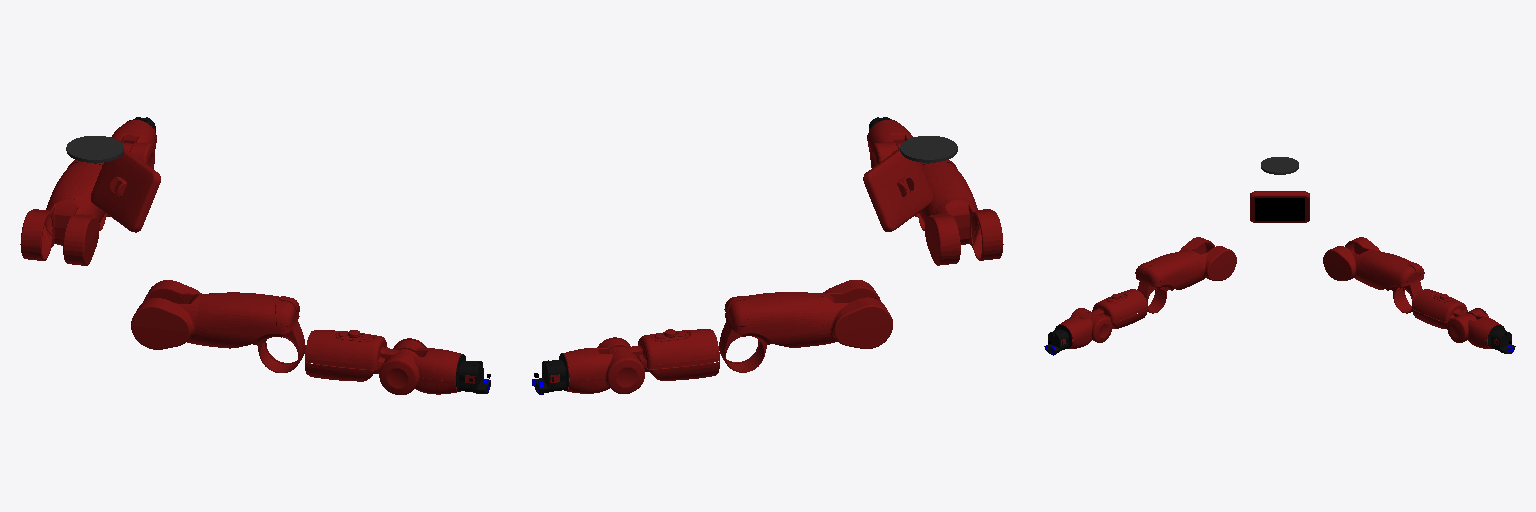
--- What the picture shows (computed from the rendered views, not written in the file) ---
3 views of the same robot in one strip: view 1: azimuth 30°, elevation 25°; view 2: azimuth 150°, elevation 25°; view 3: azimuth 270°, elevation 25° (orthographic).
Robot: baxter — 49 links, 48 joints (15 revolute, 33 fixed); root link base; default pose: every joint at zero.
Links seen in each view (by area): view 1: right_upper_elbow, left_lower_shoulder, right_upper_forearm, right_lower_shoulder, screen, right_lower_forearm, left_upper_elbow, sonar_ring, left_lower_forearm, right_wrist; view 2: left_upper_elbow, right_lower_shoulder, left_upper_forearm, left_lower_shoulder, screen, left_lower_forearm, right_upper_elbow, sonar_ring, right_lower_forearm, left_wrist; view 3: right_upper_elbow, left_upper_elbow, right_upper_forearm, left_upper_forearm, right_lower_shoulder, left_lower_shoulder, left_lower_forearm, right_lower_forearm, display, screen, sonar_ring.
Link boxes in pixels (left/top/right/bottom): right_upper_elbow: left=196, top=292, right=305, bottom=372; left_lower_shoulder: left=20, top=198, right=99, bottom=265; right_upper_forearm: left=305, top=330, right=418, bottom=381; right_lower_shoulder: left=131, top=280, right=203, bottom=349; screen: left=91, top=148, right=160, bottom=232; right_lower_forearm: left=379, top=338, right=461, bottom=394; left_upper_elbow: left=45, top=160, right=105, bottom=235; sonar_ring: left=66, top=136, right=123, bottom=162; left_lower_forearm: left=111, top=120, right=156, bottom=168; right_wrist: left=456, top=354, right=490, bottom=393; left_upper_elbow: left=719, top=292, right=828, bottom=372; right_lower_shoulder: left=925, top=198, right=1003, bottom=265; left_upper_forearm: left=605, top=329, right=719, bottom=380; left_lower_shoulder: left=820, top=280, right=892, bottom=348; screen: left=863, top=148, right=933, bottom=231; left_lower_forearm: left=563, top=337, right=644, bottom=393; right_upper_elbow: left=918, top=160, right=978, bottom=235; sonar_ring: left=900, top=136, right=957, bottom=162; right_lower_forearm: left=867, top=120, right=912, bottom=167; left_wrist: left=534, top=353, right=568, bottom=392; right_upper_elbow: left=1135, top=250, right=1202, bottom=313; left_upper_elbow: left=1357, top=250, right=1424, bottom=313; right_upper_forearm: left=1080, top=289, right=1147, bottom=328; left_upper_forearm: left=1412, top=289, right=1476, bottom=328; right_lower_shoulder: left=1179, top=237, right=1236, bottom=280; left_lower_shoulder: left=1323, top=237, right=1380, bottom=280; left_lower_forearm: left=1447, top=308, right=1500, bottom=348; right_lower_forearm: left=1059, top=308, right=1111, bottom=348; display: left=1255, top=198, right=1304, bottom=220; screen: left=1250, top=191, right=1309, bottom=222; sonar_ring: left=1261, top=157, right=1298, bottom=174.
Bounding box of the posed robot: 0.8638 × 2.07 × 0.573 m (x, y, z).
11 mesh visuals loaded from 11 distinct referenced files (6 Collada DAE); not drawn: 7 (reference not matched to a file when rendering).

The robot description file, URDF, robot "baxter":
<?xml version="1.0" ?>
<!-- ============================================================================================== -->
<!-- |                                                                                            | -->
<!-- |    baxter.urdf is DEPRECATED. It is included here for backward compatibility.              | -->
<!-- |    Please use baxter.urdf.xacro by running:                                                | -->
<!-- |$ rosrun xacro xacro.py - -inorder `rospack find baxter_description`/urdf/baxter.urdf.xacro | -->
<!-- |                                                                                            | -->
<!-- ============================================================================================== -->
<robot name="baxter">
  <link name="base">
  </link>
  <link name="torso">
    <visual>
      <origin rpy="0 0 0" xyz="0 0 0"/>
      <geometry>
        <mesh filename="package://baxter_description/meshes/torso/base_link.dae"/>
      </geometry>
    </visual>
    <inertial>
      <origin rpy="0 0 0" xyz="0.000000 0.000000 0.000000"/>
      <mass value="35.336455"/>
      <inertia ixx="1.849155" ixy="-0.000354" ixz="-0.154188" iyy="1.662671" iyz="0.003292" izz="0.802239"/>
    </inertial>
  </link>
  <link name="left_torso_itb">
    <inertial>
      <origin rpy="0 0 0" xyz="0.000000 0.000000 0.000000"/>
      <mass value="0.0001"/>
      <inertia ixx="1e-08" ixy="0" ixz="0" iyy="1e-08" iyz="0" izz="1e-08"/>
    </inertial>
  </link>
  <link name="right_torso_itb">
    <inertial>
      <origin rpy="0 0 0" xyz="0.000000 0.000000 0.000000"/>
      <mass value="0.0001"/>
      <inertia ixx="1e-08" ixy="0" ixz="0" iyy="1e-08" iyz="0" izz="1e-08"/>
    </inertial>
  </link>
  <link name="pedestal">
    <visual>
      <origin rpy="0 0 0" xyz="0 0 0"/>
      <geometry>
        <mesh filename="package://baxter_description/meshes/base/PEDESTAL.dae"/>
      </geometry>
      <material name="darkgray">
        <color rgba=".2 .2 .2 1"/>
      </material>
    </visual>
    <inertial>
      <origin rpy="0 0 0" xyz="0 0 0"/>
      <mass value="60.86397744"/>
      <inertia ixx="5.0635929" ixy="0.00103417" ixz="0.80199628" iyy="6.08689388" iyz="0.00105311" izz="4.96191932"/>
    </inertial>
  </link>
  <link name="head">
    <visual>
      <origin rpy="0 0 0" xyz="0 0 .00953"/>
      <geometry>
        <mesh filename="package://baxter_description/meshes/head/H0.dae"/>
      </geometry>
      <material name="darkgray">
        <color rgba=".2 .2 .2 1"/>
      </material>
    </visual>
    <collision>
      <origin rpy="0 0 0" xyz="0.0 0 0.0"/>
      <geometry>
        <sphere radius="0.001"/>
      </geometry>
    </collision>
    <inertial>
      <origin rpy="0 0 0" xyz="0 0 0"/>
      <mass value="0.547767"/>
      <inertia ixx="0.004641" ixy="0.000159" ixz="0.000242" iyy="0.003295" iyz="-0.001324" izz="0.003415"/>
    </inertial>
  </link>
  <link name="sonar_ring">
    <visual>
      <origin rpy="0 0 0" xyz="-.0347 0 .00953"/>
      <geometry>
        <cylinder length="0.01" radius="0.085"/>
      </geometry>
      <material name="darkgray">
        <color rgba=".2 .2 .2 1"/>
      </material>
    </visual>
    <collision>
      <origin rpy="0 0 0" xyz="0.0 0 0.0"/>
      <geometry>
        <sphere radius="0.001"/>
      </geometry>
    </collision>
    <inertial>
      <origin rpy="0 0 0" xyz="0 0 0"/>
      <mass value="0.0001"/>
      <inertia ixx="1e-08" ixy="0" ixz="0" iyy="1e-08" iyz="0" izz="1e-08"/>
    </inertial>
  </link>
  <link name="screen">
    <visual>
      <origin rpy="0 -1.57079632679 0" xyz="0 -.00953 -.0347"/>
      <geometry>
        <mesh filename="package://baxter_description/meshes/head/H1.dae"/>
      </geometry>
      <material name="darkred">
        <color rgba=".5 .1 .1 1"/>
      </material>
    </visual>
    <collision>
      <origin rpy="0 0 0" xyz="0.0 0 0.0"/>
      <geometry>
        <sphere radius="0.001"/>
      </geometry>
    </collision>
    <inertial>
      <origin rpy="0 0 0" xyz="0 0 0"/>
      <mass value="0.440171"/>
      <inertia ixx="0.004006" ixy="0.000230" ixz="0.000002" iyy="0.002800" iyz="0.000029" izz="0.001509"/>
    </inertial>
  </link>
  <link name="display">
    <visual>
      <origin rpy="0.2617993877991494 0 0" xyz="0 0 0"/>
      <geometry>
        <box size="0.218 0.16 0.001"/>
      </geometry>
      <material name="black">
        <color rgba="0 0 0 1"/>
      </material>
    </visual>
    <inertial>
      <origin rpy="0 0 0" xyz="0 0 0"/>
      <mass value="0.0001"/>
      <inertia ixx="1e-08" ixy="0" ixz="0" iyy="1e-08" iyz="0" izz="1e-08"/>
    </inertial>
  </link>
  <link name="head_camera">
    <inertial>
      <origin rpy="0 0 0" xyz="0 0 0"/>
      <mass value="0.0001"/>
      <inertia ixx="1e-08" ixy="0" ixz="0" iyy="1e-08" iyz="0" izz="1e-08"/>
    </inertial>
  </link>
  <link name="dummyhead1">
    <inertial>
      <origin rpy="0 0 0" xyz="0 0 0"/>
      <mass value="0.0001"/>
      <inertia ixx="1e-08" ixy="0" ixz="0" iyy="1e-08" iyz="0" izz="1e-08"/>
    </inertial>
  </link>
  <link name="collision_head_link_1">
    <visual>
      <origin rpy="0 0 0" xyz="0 0 0"/>
      <geometry>
        <sphere radius="0.001"/>
      </geometry>
      <material name="red">
        <color rgba="0.8 0.3 0.3 0.3"/>
      </material>
    </visual>
    <collision>
      <origin rpy="0 0 0.0" xyz="-0.07 -0.04 0.0"/>
      <geometry>
        <sphere radius="0.22"/>
      </geometry>
    </collision>
    <inertial>
      <origin rpy="0 0 0" xyz="0 0 0"/>
      <mass value="0.0001"/>
      <inertia ixx="1e-08" ixy="0" ixz="0" iyy="1e-08" iyz="0" izz="1e-08"/>
    </inertial>
  </link>
  <link name="collision_head_link_2">
    <visual>
      <origin rpy="0 0 0" xyz="0 0 0"/>
      <geometry>
        <sphere radius="0.001"/>
      </geometry>
      <material name="red">
        <color rgba="0.8 0.3 0.3 0.3"/>
      </material>
    </visual>
    <collision>
      <origin rpy="0 0 0" xyz="-0.07 0.04 0.00"/>
      <geometry>
        <sphere radius="0.22"/>
      </geometry>
    </collision>
    <inertial>
      <origin rpy="0 0 0" xyz="0 0 0"/>
      <mass value="0.0001"/>
      <inertia ixx="1e-08" ixy="0" ixz="0" iyy="1e-08" iyz="0" izz="1e-08"/>
    </inertial>
  </link>
  <joint name="collision_head_1" type="fixed">
    <origin rpy="0 0 0" xyz="0.11 0 0.75"/>
    <parent link="base"/>
    <child link="collision_head_link_1"/>
  </joint>
  <joint name="collision_head_2" type="fixed">
    <origin rpy="0 0 0" xyz="0.11 0 0.75"/>
    <parent link="base"/>
    <child link="collision_head_link_2"/>
  </joint>
  <joint name="dummy" type="fixed">
    <origin rpy="0 0 0" xyz="0 0 0"/>
    <parent link="head"/>
    <child link="dummyhead1"/>
  </joint>
  <joint name="torso_t0" type="fixed">
    <origin rpy="0 0 0" xyz="0 0 0"/>
    <parent link="base"/>
    <child link="torso"/>
    <limit effort="50000" lower="-3.01" upper="3.01" velocity="10000"/>
  </joint>
  <joint name="left_torso_itb_fixed" type="fixed">
    <origin rpy="-1.57079632679 3.1415 0" xyz="-0.08897 0.15593 0.389125"/>
    <parent link="torso"/>
    <child link="left_torso_itb"/>
  </joint>
  <joint name="right_torso_itb_fixed" type="fixed">
    <origin rpy="1.57079632679 0 0" xyz="-0.08897 -0.15593 0.389125"/>
    <parent link="torso"/>
    <child link="right_torso_itb"/>
  </joint>
  <joint name="pedestal_fixed" type="fixed">
    <origin rpy="0 0 0" xyz="0.0 0.0 0.0"/>
    <parent link="torso"/>
    <child link="pedestal"/>
  </joint>
  <joint name="head_pan" type="revolute">
    <origin rpy="0 0 0" xyz="0.06 0 0.686"/>
    <axis xyz="0 0 1"/>
    <parent link="torso"/>
    <child link="head"/>
    <limit effort="50000" lower="-1.57079632679" upper="1.57079632679" velocity="10000"/>
    <dynamics damping="0.7" friction="0.0"/>
  </joint>
  <joint name="head_nod" type="fixed">
    <origin rpy="1.75057 0 1.57079632679" xyz=".1227 0 0"/>
    <parent link="head"/>
    <child link="screen"/>
  </joint>
  <joint name="head_camera" type="fixed">
    <origin rpy="1.75057 0 1.57079632679" xyz="0.12839 0 0.06368"/>
    <parent link="head"/>
    <child link="head_camera"/>
  </joint>
  <joint name="display_joint" type="fixed">
    <origin rpy="0 0 0" xyz="0.0 -0.016 0.0"/>
    <parent link="screen"/>
    <child link="display"/>
  </joint>
  <joint name="sonar_s0" type="fixed">
    <origin rpy="0 0 0" xyz="0.0947 0 .817"/>
    <axis xyz="0 0 1"/>
    <parent link="torso"/>
    <child link="sonar_ring"/>
  </joint>
  <link name="right_arm_mount">
    <!-- all defaults -->
 <gravity>0</gravity>
    <inertial>
      <origin rpy="0 0 0" xyz="0 0 0"/>
      <mass value="0.0001"/>
      <inertia ixx="1e-08" ixy="0" ixz="0" iyy="1e-08" iyz="0" izz="1e-08"/>
    </inertial>
  </link>
  <link name="right_upper_shoulder">
 <gravity>0</gravity>
    <visual>
      <origin rpy="0 0 0" xyz="0 0 0"/>
      <geometry>
        <mesh filename="package://baxter_description/meshes/upper_shoulder/S0.dae"/>
      </geometry>
      <material name="darkred">
        <color rgba=".5 .1 .1 1"/>
      </material>
    </visual>
    <collision>
      <origin rpy="0 0 0" xyz="0 0 0.1361"/>
      <geometry>
        <cylinder length="0.2722" radius="0.06"/>
      </geometry>
    </collision>
    <inertial>
      <origin rpy="0 0 0" xyz="0.01783 0.00086 0.19127"/>
      <mass value="5.70044"/>
      <inertia ixx="0.04709102262" ixy="0.00012787556" ixz="0.00614870039" iyy="0.03766976455" iyz="0.00078086899" izz="0.03595988478"/>
    </inertial>
  </link>
  <link name="right_lower_shoulder">
 <gravity>0</gravity>
    <visual>
      <origin rpy="0 0 0" xyz="0 0 0"/>
      <geometry>
        <mesh filename="package://baxter_description/meshes/lower_shoulder/S1.dae"/>
      </geometry>
      <material name="darkred">
        <color rgba=".5 .1 .1 1"/>
      </material>
    </visual>
    <collision>
      <origin rpy="0 0 0" xyz="0 0 0"/>
      <geometry>
        <cylinder length="0.12" radius="0.06"/>
      </geometry>
    </collision>
    <inertial>
      <origin rpy="0 0 0" xyz="0.06845 0.00269 -0.00529"/>
      <mass value="3.22698"/>
      <inertia ixx="0.01175209419" ixy="-0.00030096398" ixz="0.00207675762" iyy="0.0278859752" iyz="-0.00018821993" izz="0.02078749298"/>
    </inertial>
  </link>
  <link name="right_upper_elbow">
 <gravity>0</gravity>
    <visual>
      <origin rpy="0 0 0" xyz="0 0 0"/>
      <geometry>
        <mesh filename="package://baxter_description/meshes/upper_elbow/E0.dae"/>
      </geometry>
      <material name="darkred">
        <color rgba=".5 .1 .1 1"/>
      </material>
    </visual>
    <collision>
      <origin rpy="0 0 0" xyz="0 0 -0.0535"/>
      <geometry>
        <cylinder length="0.107" radius="0.06"/>
      </geometry>
    </collision>
    <inertial>
      <origin rpy="0 0 0" xyz="-0.00276 0.00132 0.18086"/>
      <mass value="4.31272"/>
      <inertia ixx="0.02661733557" ixy="0.00029270634" ixz="0.00392189887" iyy="0.02844355207" iyz="0.0010838933" izz="0.01248008322"/>
    </inertial>
  </link>
  <link name="right_upper_elbow_visual">
 <gravity>0</gravity>
    <collision>
      <origin rpy="0 0 0" xyz="0 0 0.1365"/>
      <geometry>
        <cylinder length="0.273" radius="0.06"/>
      </geometry>
    </collision>
    <inertial>
      <origin rpy="0 0 0" xyz="0 0 0"/>
      <mass value="0.0001"/>
      <inertia ixx="1e-08" ixy="0" ixz="0" iyy="1e-08" iyz="0" izz="1e-08"/>
    </inertial>
  </link>
  <link name="right_lower_elbow">
 <gravity>0</gravity>
    <visual>
      <origin rpy="0 0 0" xyz="0 0 0"/>
      <geometry>
        <mesh filename="package://baxter_description/meshes/lower_elbow/E1.dae"/>
      </geometry>
      <material name="darkred">
        <color rgba=".5 .1 .1 1"/>
      </material>
    </visual>
    <collision>
      <origin rpy="0 0 0" xyz="0.0 0.0 0.0"/>
      <geometry>
        <cylinder length="0.10" radius="0.06"/>
      </geometry>
    </collision>
    <inertial>
      <origin rpy="0 0 0" xyz="0.02611 0.00159 -0.01117"/>
      <mass value="2.07206"/>
      <inertia ixx="0.00711582686" ixy="0.00036036173" ixz="0.0007459496" iyy="0.01318227876" iyz="-0.00019663418" izz="0.00926852064"/>
    </inertial>
  </link>
  <link name="right_upper_forearm">
 <gravity>0</gravity>
    <visual>
      <origin rpy="0 0 0" xyz="0 0 0"/>
      <geometry>
        <mesh filename="package://baxter_description/meshes/upper_forearm/W0.dae"/>
      </geometry>
      <material name="darkred">
        <color rgba=".5 .1 .1 1"/>
      </material>
    </visual>
    <collision>
      <origin rpy="0 0 0" xyz="0 0 -0.044"/>
      <geometry>
        <cylinder length="0.088" radius="0.06"/>
      </geometry>
    </collision>
    <inertial>
      <origin rpy="0 0 0" xyz="-0.00168 0.0046 0.13952"/>
      <mass value="2.24665"/>
      <inertia ixx="0.01667742825" ixy="0.00018403705" ixz="0.00018657629" iyy="0.01675457264" iyz="-0.00064732352" izz="0.0037463115"/>
    </inertial>
  </link>
  <link name="right_upper_forearm_visual">
 <gravity>0</gravity>
    <collision>
      <origin rpy="0 0 0" xyz="0 0 0.136"/>
      <geometry>
        <cylinder length="0.272" radius="0.06"/>
      </geometry>
    </collision>
    <inertial>
      <origin rpy="0 0 0" xyz="0 0 0"/>
      <mass value="0.0001"/>
      <inertia ixx="1e-08" ixy="0" ixz="0" iyy="1e-08" iyz="0" izz="1e-08"/>
    </inertial>
  </link>
  <link name="right_arm_itb">
 <gravity>0</gravity>
    <inertial>
      <origin rpy="0 0 0" xyz="0.000000 0.000000 0.000000"/>
      <mass value="0.0001"/>
      <inertia ixx="1e-08" ixy="0" ixz="0" iyy="1e-08" iyz="0" izz="1e-08"/>
    </inertial>
  </link>
  <link name="right_lower_forearm">
 <gravity>0</gravity>
    <visual>
      <origin rpy="0 0 0" xyz="0 0 0"/>
      <geometry>
        <mesh filename="package://baxter_description/meshes/lower_forearm/W1.dae"/>
      </geometry>
      <material name="darkred">
        <color rgba=".5 .1 .1 1"/>
      </material>
    </visual>
    <collision>
      <origin rpy="0 0 0" xyz="0 0 0"/>
      <geometry>
        <cylinder length="0.10" radius="0.06"/>
      </geometry>
    </collision>
    <inertial>
      <origin rpy="0 0 0" xyz="0.06041 0.00697 0.006"/>
      <mass value="1.60979"/>
      <inertia ixx="0.00387607152" ixy="-0.00044384784" ixz="-0.00021115038" iyy="0.00700537914" iyz="0.00015348067" izz="0.0055275524"/>
    </inertial>
  </link>
  <link name="right_wrist">
 <gravity>0</gravity>
    <visual>
      <origin rpy="0 0 0" xyz="0 0 0"/>
      <geometry>
        <mesh filename="package://baxter_description/meshes/wrist/W2.dae"/>
      </geometry>
      <material name="lightgrey">
        <color rgba=".1 .1 .1 1"/>
      </material>
    </visual>
    <collision>
      <origin rpy="0 0 0" xyz="0 0 0"/>
      <geometry>
        <cylinder length="0.165" radius="0.06"/>
      </geometry>
    </collision>
    <inertial>
      <origin rpy="0 0 0" xyz="0.00198 0.00125 0.01855"/>
      <mass value="0.35093"/>
      <inertia ixx="0.00025289155" ixy="0.00000575311" ixz="-0.00000159345" iyy="0.0002688601" iyz="-0.00000519818" izz="0.0003074118"/>
    </inertial>
  </link>
  <link name="right_hand">
 <gravity>0</gravity>
    <collision>
      <origin rpy="0 0 0" xyz="0 0 -0.0232"/>
      <geometry>
        <cylinder length="0.0464" radius="0.04"/>
      </geometry>
    </collision>
    <inertial>
      <origin rpy="0 0 0" xyz="0.01093 0.00042 -0.01532"/>
      <mass value="0.19125"/>
      <inertia ixx="0.00017588" ixy="0.00000147073" ixz="0.0000243633" iyy="0.00021166377" iyz="0.00000172689" izz="0.00023745397"/>
    </inertial>
  </link>
  <link name="right_hand_camera">
 <gravity>0</gravity>
    <visual>
      <origin rpy="0 0 0" xyz="0 0 0"/>
      <geometry>
        <cylinder length="0.01" radius="0.02"/>
      </geometry>
      <material name="blue">
        <color rgba="0 0 1 0.8"/>
      </material>
    </visual>
    <inertial>
      <origin rpy="0 0 0" xyz="0 0 0"/>
      <mass value="0.0001"/>
      <inertia ixx="1e-08" ixy="0" ixz="0" iyy="1e-08" iyz="0" izz="1e-08"/>
    </inertial>
  </link>
  <link name="right_hand_camera_axis">
 <gravity>0</gravity>
    <inertial>
      <origin rpy="0 0 0" xyz="0 0 0"/>
      <mass value="0.0001"/>
      <inertia ixx="1e-08" ixy="0" ixz="0" iyy="1e-08" iyz="0" izz="1e-08"/>
    </inertial>
  </link>
  <link name="right_hand_range">
 <gravity>0</gravity>
    <visual>
      <origin rpy="0 0 0" xyz="0 0 0"/>
      <geometry>
        <box size="0.005 .02 .005"/>
      </geometry>
      <material name="blue">
        <color rgba="0 0 1 0.8"/>
      </material>
    </visual>
    <inertial>
      <origin rpy="0 0 0" xyz="0 0 0"/>
      <mass value="0.0001"/>
      <inertia ixx="1e-08" ixy="0" ixz="0" iyy="1e-08" iyz="0" izz="1e-08"/>
    </inertial>
  </link>
  <link name="right_hand_accelerometer">
 <gravity>0</gravity>
    <visual>
      <origin rpy="0 0 0" xyz="0 0 0"/>
      <geometry>
        <box size="0.01 0.01 0.01"/>
      </geometry>
      <material name="black">
        <color rgba="0 0 0 1"/>
      </material>
    </visual>
    <inertial>
      <origin rpy="0 0 0" xyz="0.000000 0.000000 0.000000"/>
      <mass value="0.0001"/>
      <inertia ixx="1e-08" ixy="0" ixz="0" iyy="1e-08" iyz="0" izz="1e-08"/>
    </inertial>
  </link>
  <link name="right_gripper_base">
 <gravity>0</gravity>
    <visual>
      <origin rpy="0 0 0" xyz="0 0 -0.02"/>
      <geometry>
        <box size="0.025 0.075 0.035"/>
      </geometry>
      <material name="darkred">
        <color rgba=".5 .1 .1 1"/>
      </material>
    </visual>
    <inertial>
      <origin rpy="0 0 0" xyz="0.000000 0.000000 0.000000"/>
      <mass value="0.0001"/>
      <inertia ixx="1e-08" ixy="0" ixz="0" iyy="1e-08" iyz="0" izz="1e-08"/>
    </inertial>
  </link>
  <link name="right_gripper">
 <gravity>0</gravity>
    <visual>
      <origin rpy="0 0 0" xyz="0 0 0"/>
      <geometry>
        <box size="0.01 0.01 0.01"/>
      </geometry>
      <material name="black">
        <color rgba="0 0 0 1"/>
      </material>
    </visual>
    <inertial>
      <origin rpy="0 0 0" xyz="0.000000 0.000000 0.000000"/>
      <mass value="0.0001"/>
      <inertia ixx="1e-08" ixy="0" ixz="0" iyy="1e-08" iyz="0" izz="1e-08"/>
    </inertial>
  </link>
  <joint name="right_torso_arm_mount" type="fixed">
    <origin rpy="0 0 -0.7854" xyz="0.024645 -0.219645 0.118588"/>
    <parent link="torso"/>
    <child link="right_arm_mount"/>
  </joint>
  <joint name="right_s0" type="revolute">
    <origin rpy="0 0 0" xyz="0.055695 0 0.011038"/>
    <axis xyz="0 0 1"/>
    <parent link="right_arm_mount"/>
    <child link="right_upper_shoulder"/>
    <limit effort="50.0" lower="-1.70167993878" upper="1.70167993878" velocity="1.5"/>
    <dynamics damping="0.7" friction="0.0"/>
  </joint>
  <joint name="right_s1" type="revolute">
    <origin rpy="-1.57079632679 0 0" xyz="0.069 0 0.27035"/>
    <axis xyz="0 0 1"/>
    <parent link="right_upper_shoulder"/>
    <child link="right_lower_shoulder"/>
    <limit effort="100.0" lower="-2.147" upper="1.047" velocity="1.5"/>
    <dynamics damping="0.7" friction="0.0"/>
  </joint>
  <joint name="right_e0" type="revolute">
    <origin rpy="1.57079632679 0 1.57079632679" xyz="0.102 0 0"/>
    <axis xyz="0 0 1"/>
    <parent link="right_lower_shoulder"/>
    <child link="right_upper_elbow"/>
    <limit effort="50.0" lower="-3.05417993878" upper="3.05417993878" velocity="1.5"/>
    <dynamics damping="0.7" friction="0.0"/>
  </joint>
  <joint name="right_e0_fixed" type="fixed">
    <origin rpy="1.57079632679 0 1.57079632679" xyz="0.107 0 0"/>
    <axis xyz="0 0 1"/>
    <parent link="right_lower_shoulder"/>
    <child link="right_upper_elbow_visual"/>
  </joint>
  <joint name="right_e1" type="revolute">
    <origin rpy="-1.57079632679 -1.57079632679 0" xyz="0.069 0 0.26242"/>
    <axis xyz="0 0 1"/>
    <parent link="right_upper_elbow"/>
    <child link="right_lower_elbow"/>
    <limit effort="50.0" lower="-0.05" upper="2.618" velocity="1.5"/>
    <dynamics damping="0.7" friction="0.0"/>
  </joint>
  <joint name="right_w0" type="revolute">
    <origin rpy="1.57079632679 0 1.57079632679" xyz="0.10359 0 0"/>
    <axis xyz="0 0 1"/>
    <parent link="right_lower_elbow"/>
    <child link="right_upper_forearm"/>
    <limit effort="15.0" lower="-3.059" upper="3.059" velocity="4.0"/>
    <dynamics damping="0.7" friction="0.0"/>
  </joint>
  <joint name="right_w0_fixed" type="fixed">
    <origin rpy="1.57079632679 0 1.57079632679" xyz="0.088 0 0"/>
    <axis xyz="0 0 1"/>
    <parent link="right_lower_elbow"/>
    <child link="right_upper_forearm_visual"/>
  </joint>
  <joint name="right_w0_to_itb_fixed" type="fixed">
    <origin rpy="-1.57079632679 0 1.57079632679" xyz="-0.0565 0 0.12"/>
    <axis xyz="0 0 1"/>
    <parent link="right_upper_forearm"/>
    <child link="right_arm_itb"/>
  </joint>
  <joint name="right_w1" type="revolute">
    <origin rpy="-1.57079632679 -1.57079632679 0" xyz="0.01 0 0.2707"/>
    <axis xyz="0 0 1"/>
    <parent link="right_upper_forearm"/>
    <child link="right_lower_forearm"/>
    <limit effort="15.0" lower="-1.57079632679" upper="2.094" velocity="4.0"/>
    <dynamics damping="0.7" friction="0.0"/>
  </joint>
  <joint name="right_w2" type="revolute">
    <origin rpy="1.57079632679 0 1.57079632679" xyz="0.115975 0 0"/>
    <axis xyz="0 0 1"/>
    <parent link="right_lower_forearm"/>
    <child link="right_wrist"/>
    <limit effort="15.0" lower="-3.059" upper="3.059" velocity="4.0"/>
    <dynamics damping="0.7" friction="0.0"/>
  </joint>
  <joint name="right_hand" type="fixed">
    <origin rpy="0 0 0" xyz="0 0 0.11355"/>
    <axis xyz="0 0 1"/>
    <parent link="right_wrist"/>
    <child link="right_hand"/>
    <dynamics damping="0.7" friction="0.0"/>
  </joint>
  <joint name="right_hand_camera" type="fixed">
    <origin rpy="0 0 -1.57079633" xyz="0.03825 0.012 0.015355"/>
    <parent link="right_hand"/>
    <child link="right_hand_camera"/>
  </joint>
  <joint name="right_hand_camera_axis" type="fixed">
    <origin rpy="0 0 0" xyz="0.03825 0.012 0.015355"/>
    <parent link="right_hand"/>
    <child link="right_hand_camera_axis"/>
  </joint>
  <joint name="right_hand_range" type="fixed">
    <origin rpy="0 -1.57079632679 -1.57079632679" xyz="0.032 -0.020245 0.0288"/>
    <parent link="right_hand"/>
    <child link="right_hand_range"/>
  </joint>
  <joint name="right_hand_accelerometer" type="fixed">
    <origin rpy="0 0 0" xyz="0.00198 0.000133 -0.0146"/>
    <parent link="right_hand"/>
    <child link="right_hand_accelerometer"/>
  </joint>
  <joint name="right_gripper_base" type="fixed">
    <origin rpy="0 0 0" xyz="0 0 0"/>
    <parent link="right_hand"/>
    <child link="right_gripper_base"/>
  </joint>
  <joint name="right_endpoint" type="fixed">
    <origin rpy="0 0 0" xyz="0.0 0 0.025"/>
    <parent link="right_gripper_base"/>
    <child link="right_gripper"/>
  </joint>
  <link name="left_arm_mount">
    <!-- all defaults -->
 <gravity>0</gravity>
    <inertial>
      <origin rpy="0 0 0" xyz="0 0 0"/>
      <mass value="0.0001"/>
      <inertia ixx="1e-08" ixy="0" ixz="0" iyy="1e-08" iyz="0" izz="1e-08"/>
    </inertial>
  </link>
  <link name="left_upper_shoulder">
 <gravity>0</gravity>
    <visual>
      <origin rpy="0 0 0" xyz="0 0 0"/>
      <geometry>
        <mesh filename="package://baxter_description/meshes/upper_shoulder/S0.dae"/>
      </geometry>
      <material name="darkred">
        <color rgba=".5 .1 .1 1"/>
      </material>
    </visual>
    <collision>
      <origin rpy="0 0 0" xyz="0 0 0.1361"/>
      <geometry>
        <cylinder length="0.2722" radius="0.06"/>
      </geometry>
    </collision>
    <inertial>
      <origin rpy="0 0 0" xyz="0.01783 0.00086 0.19127"/>
      <mass value="5.70044"/>
      <inertia ixx="0.04709102262" ixy="0.00012787556" ixz="0.00614870039" iyy="0.03766976455" iyz="0.00078086899" izz="0.03595988478"/>
    </inertial>
  </link>
  <link name="left_lower_shoulder">
 <gravity>0</gravity>
    <visual>
      <origin rpy="0 0 0" xyz="0 0 0"/>
      <geometry>
        <mesh filename="package://baxter_description/meshes/lower_shoulder/S1.dae"/>
      </geometry>
      <material name="darkred">
        <color rgba=".5 .1 .1 1"/>
      </material>
    </visual>
    <collision>
      <origin rpy="0 0 0" xyz="0 0 0"/>
      <geometry>
        <cylinder length="0.12" radius="0.06"/>
      </geometry>
    </collision>
    <inertial>
      <origin rpy="0 0 0" xyz="0.06845 0.00269 -0.00529"/>
      <mass value="3.22698"/>
      <inertia ixx="0.01175209419" ixy="-0.00030096398" ixz="0.00207675762" iyy="0.0278859752" iyz="-0.00018821993" izz="0.02078749298"/>
    </inertial>
  </link>
  <link name="left_upper_elbow">
 <gravity>0</gravity>
    <visual>
      <origin rpy="0 0 0" xyz="0 0 0"/>
      <geometry>
        <mesh filename="package://baxter_description/meshes/upper_elbow/E0.dae"/>
      </geometry>
      <material name="darkred">
        <color rgba=".5 .1 .1 1"/>
      </material>
    </visual>
    <collision>
      <origin rpy="0 0 0" xyz="0 0 -0.0535"/>
      <geometry>
        <cylinder length="0.107" radius="0.06"/>
      </geometry>
    </collision>
    <inertial>
      <origin rpy="0 0 0" xyz="-0.00276 0.00132 0.18086"/>
      <mass value="4.31272"/>
      <inertia ixx="0.02661733557" ixy="0.00029270634" ixz="0.00392189887" iyy="0.02844355207" iyz="0.0010838933" izz="0.01248008322"/>
    </inertial>
  </link>
  <link name="left_upper_elbow_visual">
 <gravity>0</gravity>
    <collision>
      <origin rpy="0 0 0" xyz="0 0 0.1365"/>
      <geometry>
        <cylinder length="0.273" radius="0.06"/>
      </geometry>
    </collision>
    <inertial>
      <origin rpy="0 0 0" xyz="0 0 0"/>
      <mass value="0.0001"/>
      <inertia ixx="1e-08" ixy="0" ixz="0" iyy="1e-08" iyz="0" izz="1e-08"/>
    </inertial>
  </link>
  <link name="left_lower_elbow">
 <gravity>0</gravity>
    <visual>
      <origin rpy="0 0 0" xyz="0 0 0"/>
      <geometry>
        <mesh filename="package://baxter_description/meshes/lower_elbow/E1.dae"/>
      </geometry>
      <material name="darkred">
        <color rgba=".5 .1 .1 1"/>
      </material>
    </visual>
    <collision>
      <origin rpy="0 0 0" xyz="0.0 0.0 0.0"/>
      <geometry>
        <cylinder length="0.10" radius="0.06"/>
      </geometry>
    </collision>
    <inertial>
      <origin rpy="0 0 0" xyz="0.02611 0.00159 -0.01117"/>
      <mass value="2.07206"/>
      <inertia ixx="0.00711582686" ixy="0.00036036173" ixz="0.0007459496" iyy="0.01318227876" iyz="-0.00019663418" izz="0.00926852064"/>
    </inertial>
  </link>
  <link name="left_upper_forearm">
 <gravity>0</gravity>
    <visual>
      <origin rpy="0 0 0" xyz="0 0 0"/>
      <geometry>
        <mesh filename="package://baxter_description/meshes/upper_forearm/W0.dae"/>
      </geometry>
      <material name="darkred">
        <color rgba=".5 .1 .1 1"/>
      </material>
    </visual>
    <collision>
      <origin rpy="0 0 0" xyz="0 0 -0.044"/>
      <geometry>
        <cylinder length="0.088" radius="0.06"/>
      </geometry>
    </collision>
    <inertial>
      <origin rpy="0 0 0" xyz="-0.00168 0.0046 0.13952"/>
      <mass value="2.24665"/>
      <inertia ixx="0.01667742825" ixy="0.00018403705" ixz="0.00018657629" iyy="0.01675457264" iyz="-0.00064732352" izz="0.0037463115"/>
    </inertial>
  </link>
  <link name="left_upper_forearm_visual">
 <gravity>0</gravity>
    <collision>
      <origin rpy="0 0 0" xyz="0 0 0.136"/>
      <geometry>
        <cylinder length="0.272" radius="0.06"/>
      </geometry>
    </collision>
    <inertial>
      <origin rpy="0 0 0" xyz="0 0 0"/>
      <mass value="0.0001"/>
      <inertia ixx="1e-08" ixy="0" ixz="0" iyy="1e-08" iyz="0" izz="1e-08"/>
    </inertial>
  </link>
  <link name="left_arm_itb">
 <gravity>0</gravity>
    <inertial>
      <origin rpy="0 0 0" xyz="0.000000 0.000000 0.000000"/>
      <mass value="0.0001"/>
      <inertia ixx="1e-08" ixy="0" ixz="0" iyy="1e-08" iyz="0" izz="1e-08"/>
    </inertial>
  </link>
  <link name="left_lower_forearm">
 <gravity>0</gravity>
    <visual>
      <origin rpy="0 0 0" xyz="0 0 0"/>
      <geometry>
        <mesh filename="package://baxter_description/meshes/lower_forearm/W1.dae"/>
      </geometry>
      <material name="darkred">
        <color rgba=".5 .1 .1 1"/>
      </material>
    </visual>
    <collision>
      <origin rpy="0 0 0" xyz="0 0 0"/>
      <geometry>
        <cylinder length="0.10" radius="0.06"/>
      </geometry>
    </collision>
    <inertial>
      <origin rpy="0 0 0" xyz="0.06041 0.00697 0.006"/>
      <mass value="1.60979"/>
      <inertia ixx="0.00387607152" ixy="-0.00044384784" ixz="-0.00021115038" iyy="0.00700537914" iyz="0.00015348067" izz="0.0055275524"/>
    </inertial>
  </link>
  <link name="left_wrist">
 <gravity>0</gravity>
    <visual>
      <origin rpy="0 0 0" xyz="0 0 0"/>
      <geometry>
        <mesh filename="package://baxter_description/meshes/wrist/W2.dae"/>
      </geometry>
      <material name="lightgrey">
        <color rgba=".1 .1 .1 1"/>
      </material>
    </visual>
    <collision>
      <origin rpy="0 0 0" xyz="0 0 0"/>
      <geometry>
        <cylinder length="0.165" radius="0.06"/>
      </geometry>
    </collision>
    <inertial>
      <origin rpy="0 0 0" xyz="0.00198 0.00125 0.01855"/>
      <mass value="0.35093"/>
      <inertia ixx="0.00025289155" ixy="0.00000575311" ixz="-0.00000159345" iyy="0.0002688601" iyz="-0.00000519818" izz="0.0003074118"/>
    </inertial>
  </link>
  <link name="left_hand">
 <gravity>0</gravity>
    <collision>
      <origin rpy="0 0 0" xyz="0 0 -0.0232"/>
      <geometry>
        <cylinder length="0.0464" radius="0.04"/>
      </geometry>
    </collision>
    <inertial>
      <origin rpy="0 0 0" xyz="0.01093 0.00042 -0.01532"/>
      <mass value="0.19125"/>
      <inertia ixx="0.00017588" ixy="0.00000147073" ixz="0.0000243633" iyy="0.00021166377" iyz="0.00000172689" izz="0.00023745397"/>
    </inertial>
  </link>
  <link name="left_hand_camera">
 <gravity>0</gravity>
    <visual>
      <origin rpy="0 0 0" xyz="0 0 0"/>
      <geometry>
        <cylinder length="0.01" radius="0.02"/>
      </geometry>
      <material name="blue">
        <color rgba="0 0 1 0.8"/>
      </material>
    </visual>
    <inertial>
      <origin rpy="0 0 0" xyz="0 0 0"/>
      <mass value="0.0001"/>
      <inertia ixx="1e-08" ixy="0" ixz="0" iyy="1e-08" iyz="0" izz="1e-08"/>
    </inertial>
  </link>
  <link name="left_hand_camera_axis">
 <gravity>0</gravity>
    <inertial>
      <origin rpy="0 0 0" xyz="0 0 0"/>
      <mass value="0.0001"/>
      <inertia ixx="1e-08" ixy="0" ixz="0" iyy="1e-08" iyz="0" izz="1e-08"/>
    </inertial>
  </link>
  <link name="left_hand_range">
 <gravity>0</gravity>
    <visual>
      <origin rpy="0 0 0" xyz="0 0 0"/>
      <geometry>
        <box size="0.005 .02 .005"/>
      </geometry>
      <material name="blue">
        <color rgba="0 0 1 0.8"/>
      </material>
    </visual>
    <inertial>
      <origin rpy="0 0 0" xyz="0 0 0"/>
      <mass value="0.0001"/>
      <inertia ixx="1e-08" ixy="0" ixz="0" iyy="1e-08" iyz="0" izz="1e-08"/>
    </inertial>
  </link>
  <link name="left_hand_accelerometer">
 <gravity>0</gravity>
    <visual>
      <origin rpy="0 0 0" xyz="0 0 0"/>
      <geometry>
        <box size="0.01 0.01 0.01"/>
      </geometry>
      <material name="black">
        <color rgba="0 0 0 1"/>
      </material>
    </visual>
    <inertial>
      <origin rpy="0 0 0" xyz="0.000000 0.000000 0.000000"/>
      <mass value="0.0001"/>
      <inertia ixx="1e-08" ixy="0" ixz="0" iyy="1e-08" iyz="0" izz="1e-08"/>
    </inertial>
  </link>
  <link name="left_gripper_base">
 <gravity>0</gravity>
    <visual>
      <origin rpy="0 0 0" xyz="0 0 -0.02"/>
      <geometry>
        <box size="0.025 0.075 0.035"/>
      </geometry>
      <material name="darkred">
        <color rgba=".5 .1 .1 1"/>
      </material>
    </visual>
    <inertial>
      <origin rpy="0 0 0" xyz="0.000000 0.000000 0.000000"/>
      <mass value="0.0001"/>
      <inertia ixx="1e-08" ixy="0" ixz="0" iyy="1e-08" iyz="0" izz="1e-08"/>
    </inertial>
  </link>
  <link name="left_gripper">
 <gravity>0</gravity>
    <visual>
      <origin rpy="0 0 0" xyz="0 0 0"/>
      <geometry>
        <box size="0.01 0.01 0.01"/>
      </geometry>
      <material name="black">
        <color rgba="0 0 0 1"/>
      </material>
    </visual>
    <inertial>
      <origin rpy="0 0 0" xyz="0.000000 0.000000 0.000000"/>
      <mass value="0.0001"/>
      <inertia ixx="1e-08" ixy="0" ixz="0" iyy="1e-08" iyz="0" izz="1e-08"/>
    </inertial>
  </link>
  <joint name="left_torso_arm_mount" type="fixed">
    <origin rpy="0 0 0.7854" xyz="0.024645 0.219645 0.118588"/>
    <parent link="torso"/>
    <child link="left_arm_mount"/>
  </joint>
  <joint name="left_s0" type="revolute">
    <origin rpy="0 0 0" xyz="0.055695 0 0.011038"/>
    <axis xyz="0 0 1"/>
    <parent link="left_arm_mount"/>
    <child link="left_upper_shoulder"/>
    <limit effort="50.0" lower="-1.70167993878" upper="1.70167993878" velocity="1.5"/>
    <dynamics damping="0.7" friction="0.0"/>
  </joint>
  <joint name="left_s1" type="revolute">
    <origin rpy="-1.57079632679 0 0" xyz="0.069 0 0.27035"/>
    <axis xyz="0 0 1"/>
    <parent link="left_upper_shoulder"/>
    <child link="left_lower_shoulder"/>
    <limit effort="100.0" lower="-2.147" upper="1.047" velocity="1.5"/>
    <dynamics damping="0.7" friction="0.0"/>
  </joint>
  <joint name="left_e0" type="revolute">
    <origin rpy="1.57079632679 0 1.57079632679" xyz="0.102 0 0"/>
    <axis xyz="0 0 1"/>
    <parent link="left_lower_shoulder"/>
    <child link="left_upper_elbow"/>
    <limit effort="50.0" lower="-3.05417993878" upper="3.05417993878" velocity="1.5"/>
    <dynamics damping="0.7" friction="0.0"/>
  </joint>
  <joint name="left_e0_fixed" type="fixed">
    <origin rpy="1.57079632679 0 1.57079632679" xyz="0.107 0 0"/>
    <axis xyz="0 0 1"/>
    <parent link="left_lower_shoulder"/>
    <child link="left_upper_elbow_visual"/>
  </joint>
  <joint name="left_e1" type="revolute">
    <origin rpy="-1.57079632679 -1.57079632679 0" xyz="0.069 0 0.26242"/>
    <axis xyz="0 0 1"/>
    <parent link="left_upper_elbow"/>
    <child link="left_lower_elbow"/>
    <limit effort="50.0" lower="-0.05" upper="2.618" velocity="1.5"/>
    <dynamics damping="0.7" friction="0.0"/>
  </joint>
  <joint name="left_w0" type="revolute">
    <origin rpy="1.57079632679 0 1.57079632679" xyz="0.10359 0 0"/>
    <axis xyz="0 0 1"/>
    <parent link="left_lower_elbow"/>
    <child link="left_upper_forearm"/>
    <limit effort="15.0" lower="-3.059" upper="3.059" velocity="4.0"/>
    <dynamics damping="0.7" friction="0.0"/>
  </joint>
  <joint name="left_w0_fixed" type="fixed">
    <origin rpy="1.57079632679 0 1.57079632679" xyz="0.088 0 0"/>
    <axis xyz="0 0 1"/>
    <parent link="left_lower_elbow"/>
    <child link="left_upper_forearm_visual"/>
  </joint>
  <joint name="left_w0_to_itb_fixed" type="fixed">
    <origin rpy="-1.57079632679 0 1.57079632679" xyz="-0.0565 0 0.12"/>
    <axis xyz="0 0 1"/>
    <parent link="left_upper_forearm"/>
    <child link="left_arm_itb"/>
  </joint>
  <joint name="left_w1" type="revolute">
    <origin rpy="-1.57079632679 -1.57079632679 0" xyz="0.01 0 0.2707"/>
    <axis xyz="0 0 1"/>
    <parent link="left_upper_forearm"/>
    <child link="left_lower_forearm"/>
    <limit effort="15.0" lower="-1.57079632679" upper="2.094" velocity="4.0"/>
    <dynamics damping="0.7" friction="0.0"/>
  </joint>
  <joint name="left_w2" type="revolute">
    <origin rpy="1.57079632679 0 1.57079632679" xyz="0.115975 0 0"/>
    <axis xyz="0 0 1"/>
    <parent link="left_lower_forearm"/>
    <child link="left_wrist"/>
    <limit effort="15.0" lower="-3.059" upper="3.059" velocity="4.0"/>
    <dynamics damping="0.7" friction="0.0"/>
  </joint>
  <joint name="left_hand" type="fixed">
    <origin rpy="0 0 0" xyz="0 0 0.11355"/>
    <axis xyz="0 0 1"/>
    <parent link="left_wrist"/>
    <child link="left_hand"/>
    <dynamics damping="0.7" friction="0.0"/>
  </joint>
  <joint name="left_hand_camera" type="fixed">
    <origin rpy="0 0 -1.57079633" xyz="0.03825 0.012 0.015355"/>
    <parent link="left_hand"/>
    <child link="left_hand_camera"/>
  </joint>
  <joint name="left_hand_camera_axis" type="fixed">
    <origin rpy="0 0 0" xyz="0.03825 0.012 0.015355"/>
    <parent link="left_hand"/>
    <child link="left_hand_camera_axis"/>
  </joint>
  <joint name="left_hand_range" type="fixed">
    <origin rpy="0 -1.57079632679 -1.57079632679" xyz="0.032 -0.020245 0.0288"/>
    <parent link="left_hand"/>
    <child link="left_hand_range"/>
  </joint>
  <joint name="left_hand_accelerometer" type="fixed">
    <origin rpy="0 0 0" xyz="0.00198 0.000133 -0.0146"/>
    <parent link="left_hand"/>
    <child link="left_hand_accelerometer"/>
  </joint>
  <joint name="left_gripper_base" type="fixed">
    <origin rpy="0 0 0" xyz="0 0 0"/>
    <parent link="left_hand"/>
    <child link="left_gripper_base"/>
  </joint>
  <joint name="left_endpoint" type="fixed">
    <origin rpy="0 0 0" xyz="0.0 0 0.025"/>
    <parent link="left_gripper_base"/>
    <child link="left_gripper"/>
  </joint>

  <!-- Transmissions -->

  <!-- Right Arm -->
  <transmission name="right_tran1">
    <type>transmission_interface/SimpleTransmission</type>
    <joint name="right_s0">
      <hardwareInterface>EffortJointInterface</hardwareInterface>
    </joint>
    <actuator name="right_motor1">
      <hardwareInterface>EffortJointInterface</hardwareInterface>
      <mechanicalReduction>1</mechanicalReduction>
    </actuator>
  </transmission>
  <transmission name="right_tran2">
    <type>transmission_interface/SimpleTransmission</type>
    <joint name="right_s1">
      <hardwareInterface>EffortJointInterface</hardwareInterface>
    </joint>
    <actuator name="right_motor2">
      <hardwareInterface>EffortJointInterface</hardwareInterface>
      <mechanicalReduction>1</mechanicalReduction>
    </actuator>
  </transmission>
  <transmission name="right_tran3">
    <type>transmission_interface/SimpleTransmission</type>
    <joint name="right_e0">
      <hardwareInterface>EffortJointInterface</hardwareInterface>
    </joint>
    <actuator name="right_motor3">
      <hardwareInterface>EffortJointInterface</hardwareInterface>
      <mechanicalReduction>1</mechanicalReduction>
    </actuator>
  </transmission>
  <transmission name="right_tran4">
    <type>transmission_interface/SimpleTransmission</type>
    <joint name="right_e1">
      <hardwareInterface>EffortJointInterface</hardwareInterface>
    </joint>
    <actuator name="right_motor4">
      <hardwareInterface>EffortJointInterface</hardwareInterface>
      <mechanicalReduction>1</mechanicalReduction>
    </actuator>
  </transmission>
  <transmission name="right_tran5">
    <type>transmission_interface/SimpleTransmission</type>
    <joint name="right_w0">
      <hardwareInterface>EffortJointInterface</hardwareInterface>
    </joint>
    <actuator name="right_motor5">
      <hardwareInterface>EffortJointInterface</hardwareInterface>
      <mechanicalReduction>1</mechanicalReduction>
    </actuator>
  </transmission>
  <transmission name="right_tran6">
    <type>transmission_interface/SimpleTransmission</type>
    <joint name="right_w1">
      <hardwareInterface>EffortJointInterface</hardwareInterface>
    </joint>
    <actuator name="right_motor6">
      <hardwareInterface>EffortJointInterface</hardwareInterface>
      <mechanicalReduction>1</mechanicalReduction>
    </actuator>
  </transmission>
  <transmission name="right_tran7">
    <type>transmission_interface/SimpleTransmission</type>
    <joint name="right_w2">
      <hardwareInterface>EffortJointInterface</hardwareInterface>
    </joint>
    <actuator name="right_motor7">
      <hardwareInterface>EffortJointInterface</hardwareInterface>
      <mechanicalReduction>1</mechanicalReduction>
    </actuator>
  </transmission>

  <!-- Left Arm -->
  <transmission name="left_tran1">
    <type>transmission_interface/SimpleTransmission</type>
    <joint name="left_s0">
      <hardwareInterface>EffortJointInterface</hardwareInterface>
    </joint>
    <actuator name="left_motor1">
      <hardwareInterface>EffortJointInterface</hardwareInterface>
      <mechanicalReduction>1</mechanicalReduction>
    </actuator>
  </transmission>
  <transmission name="left_tran2">
    <type>transmission_interface/SimpleTransmission</type>
    <joint name="left_s1">      
      <hardwareInterface>EffortJointInterface</hardwareInterface>
    </joint>
    <actuator name="left_motor2">
      <hardwareInterface>EffortJointInterface</hardwareInterface>
      <mechanicalReduction>1</mechanicalReduction>
    </actuator>
  </transmission>
  <transmission name="left_tran3">
    <type>transmission_interface/SimpleTransmission</type>
    <joint name="left_e0">
      <hardwareInterface>EffortJointInterface</hardwareInterface>
    </joint>
    <actuator name="left_motor3">
      <hardwareInterface>EffortJointInterface</hardwareInterface>
      <mechanicalReduction>1</mechanicalReduction>
    </actuator>
  </transmission>
  <transmission name="left_tran4">
    <type>transmission_interface/SimpleTransmission</type>
    <joint name="left_e1">
      <hardwareInterface>EffortJointInterface</hardwareInterface>
    </joint>
    <actuator name="left_motor4">
      <hardwareInterface>EffortJointInterface</hardwareInterface>
      <mechanicalReduction>1</mechanicalReduction>
    </actuator>
  </transmission>
  <transmission name="left_tran5">
    <type>transmission_interface/SimpleTransmission</type>
    <joint name="left_w0">
      <hardwareInterface>EffortJointInterface</hardwareInterface>
    </joint>
    <actuator name="left_motor5">
      <hardwareInterface>EffortJointInterface</hardwareInterface>
      <mechanicalReduction>1</mechanicalReduction>
    </actuator>
  </transmission>
  <transmission name="left_tran6">
    <type>transmission_interface/SimpleTransmission</type>
    <joint name="left_w1">
      <hardwareInterface>EffortJointInterface</hardwareInterface>
    </joint>
    <actuator name="left_motor6">
      <hardwareInterface>EffortJointInterface</hardwareInterface>
      <mechanicalReduction>1</mechanicalReduction>
    </actuator>
  </transmission>
  <transmission name="left_tran7">
    <type>transmission_interface/SimpleTransmission</type>
    <joint name="left_w2">
      <hardwareInterface>EffortJointInterface</hardwareInterface>
    </joint>
    <actuator name="left_motor7">
      <hardwareInterface>EffortJointInterface</hardwareInterface>
      <mechanicalReduction>1</mechanicalReduction>
    </actuator>
  </transmission>

  <!-- Head -->
  <transmission name="head1">
    <type>transmission_interface/SimpleTransmission</type>
    <joint name="head_pan">
      <hardwareInterface>EffortJointInterface</hardwareInterface>
    </joint>
    <actuator name="head_motor1">
      <hardwareInterface>EffortJointInterface</hardwareInterface>
      <mechanicalReduction>1</mechanicalReduction>
    </actuator>
  </transmission>

  <!-- ros_control plugin -->
  <gazebo>
    <plugin name="baxter_ros_control" filename="libbaxter_gazebo_ros_control.so">
      <robotNamespace>/robot</robotNamespace>
    </plugin>
  </gazebo>

  <!-- Gazebo-Specific Link Properties -->
  <gazebo reference="torso">
    <selfCollide>true</selfCollide>
  </gazebo>
  <gazebo reference="head_pan">
    <implicitSpringDamper>1</implicitSpringDamper>
  </gazebo>
  <gazebo reference="right_s0">
    <implicitSpringDamper>1</implicitSpringDamper>
  </gazebo>
  <gazebo reference="right_s1">
    <implicitSpringDamper>1</implicitSpringDamper>
  </gazebo>
  <gazebo reference="right_e0">
    <implicitSpringDamper>1</implicitSpringDamper>
  </gazebo>
  <gazebo reference="right_e1">
    <implicitSpringDamper>1</implicitSpringDamper>
  </gazebo>
  <gazebo reference="right_w0">
    <implicitSpringDamper>1</implicitSpringDamper>
  </gazebo>
  <gazebo reference="right_w1">
    <implicitSpringDamper>1</implicitSpringDamper>
  </gazebo>
  <gazebo reference="right_w2">
    <implicitSpringDamper>1</implicitSpringDamper>
  </gazebo>
  <gazebo reference="left_s0">
    <implicitSpringDamper>1</implicitSpringDamper>
  </gazebo>
  <gazebo reference="left_s1">
    <implicitSpringDamper>1</implicitSpringDamper>
  </gazebo>
  <gazebo reference="left_e0">
    <implicitSpringDamper>1</implicitSpringDamper>
  </gazebo>
  <gazebo reference="left_e1">
    <implicitSpringDamper>1</implicitSpringDamper>
  </gazebo>
  <gazebo reference="left_w0">
    <implicitSpringDamper>1</implicitSpringDamper>
  </gazebo>
  <gazebo reference="left_w1">
    <implicitSpringDamper>1</implicitSpringDamper>
  </gazebo>
  <gazebo reference="left_w2">
    <implicitSpringDamper>1</implicitSpringDamper>
  </gazebo>
  <gazebo reference="head_camera">
    <sensor name="head_camera" type="camera">
      <update_rate>30.0</update_rate>
      <camera name="head_camera">
        <pose>0.0 0.21 0.0 0.0 -0.8 -1.570796327 </pose>
        <horizontal_fov>1.3962634</horizontal_fov>
        <image>
          <width>800</width>
          <height>800</height>
          <format>R8G8B8</format>
        </image>
        <clip>
          <near>0.02</near>
          <far>300</far>
        </clip>
        <noise>
          <type>gaussian</type>
          <mean>0.0</mean>
          <stddev>0.007</stddev>
        </noise>
      </camera>
      <plugin filename="libgazebo_ros_camera.so" name="camera_controller">
        <alwaysOn>true</alwaysOn>
        <updateRate>0.0</updateRate>
        <cameraName>head_camera</cameraName>
        <imageTopicName>image</imageTopicName>
        <cameraInfoTopicName>camera_info</cameraInfoTopicName>
        <frameName>head_camera</frameName>
        <hackBaseline>0.07</hackBaseline>
        <distortionK1>0.0</distortionK1>
        <distortionK2>0.0</distortionK2>
        <distortionK3>0.0</distortionK3>
        <distortionT1>0.0</distortionT1>
        <distortionT2>0.0</distortionT2>
        <robotNamespace>/cameras</robotNamespace>
      </plugin>
    </sensor>
  </gazebo>
  <gazebo reference="right_hand_camera">
    <sensor name="right_hand_camera" type="camera">
      <update_rate>30.0</update_rate>
      <camera name="right_hand_camera">
        <pose>0.0 0.0 0.0 0.0 -1.570796327 1.570796327 </pose>
        <horizontal_fov>1.3962634</horizontal_fov>
        <image>
          <width>800</width>
          <height>800</height>
          <format>R8G8B8</format>
        </image>
        <clip>
          <near>0.02</near>
          <far>300</far>
        </clip>
        <noise>
          <type>gaussian</type>
          <mean>0.0</mean>
          <stddev>0.007</stddev>
        </noise>
      </camera>
      <plugin filename="libgazebo_ros_camera.so" name="camera_controller">
        <alwaysOn>true</alwaysOn>
        <updateRate>0.0</updateRate>
        <cameraName>right_hand_camera</cameraName>
        <imageTopicName>image</imageTopicName>
        <cameraInfoTopicName>camera_info</cameraInfoTopicName>
        <frameName>right_hand_camera</frameName>
        <hackBaseline>0.07</hackBaseline>
        <distortionK1>0.0</distortionK1>
        <distortionK2>0.0</distortionK2>
        <distortionK3>0.0</distortionK3>
        <distortionT1>0.0</distortionT1>
        <distortionT2>0.0</distortionT2>
        <robotNamespace>/cameras</robotNamespace>
      </plugin>
    </sensor>
  </gazebo>
  <gazebo reference="left_hand_camera">
    <sensor name="left_hand_camera" type="camera">
      <update_rate>30.0</update_rate>
      <camera name="left_hand_camera">
        <pose>0.0 0.0 0.0 0.0 -1.570796327 1.570796327 </pose>
        <horizontal_fov>1.3962634</horizontal_fov>
        <image>
          <width>800</width>
          <height>800</height>
          <format>R8G8B8</format>
        </image>
        <clip>
          <near>0.02</near>
          <far>300</far>
        </clip>
        <noise>
          <type>gaussian</type>
          <mean>0.0</mean>
          <stddev>0.007</stddev>
        </noise>
      </camera>
      <plugin filename="libgazebo_ros_camera.so" name="camera_controller">
        <alwaysOn>true</alwaysOn>
        <updateRate>0.0</updateRate>
        <cameraName>left_hand_camera</cameraName>
        <imageTopicName>image</imageTopicName>
        <cameraInfoTopicName>camera_info</cameraInfoTopicName>
        <frameName>left_hand_camera</frameName>
        <hackBaseline>0.07</hackBaseline>
        <distortionK1>0.0</distortionK1>
        <distortionK2>0.0</distortionK2>
        <distortionK3>0.0</distortionK3>
        <distortionT1>0.0</distortionT1>
        <distortionT2>0.0</distortionT2>
        <robotNamespace>/cameras</robotNamespace>
      </plugin>
    </sensor>
  </gazebo>
  <gazebo reference="display">
    <visual>
      <plugin name="screen_video_controller" filename="libgazebo_ros_video.so">
        <height>600</height>
        <width>1024</width>
        <topicName>/robot/xdisplay</topicName>
      </plugin>
    </visual>
  </gazebo>
  <gazebo reference="sonar_ring">
    <sensor name="sonar" type="ray">
      <pose>0.0 0.0 0.0 0.0 0.0 0.0</pose>
      <ray>
        <scan>
          <horizontal>
            <samples>12</samples>
            <resolution>1.0</resolution>
            <min_angle>-3.14</min_angle>
            <max_angle>3.14</max_angle>
          </horizontal>
          <vertical>
            <samples>2</samples>
            <resolution>1.0</resolution>
            <min_angle>-0.001</min_angle>
            <max_angle>0</max_angle>
          </vertical>
        </scan>
        <range>
          <min>0.05</min>
          <max>50.0</max>
        </range>
      </ray>
      <plugin name="sonar_plugin" filename="libgazebo_ros_block_laser.so">
        <gaussianNoise>0.00</gaussianNoise>
        <alwaysOn>true</alwaysOn>
        <updateRate>100.0</updateRate>
        <topicName>/robot/sonar/head_sonar/state</topicName>
        <frameName>sonar_ring</frameName>
      </plugin>
      <always_on>true</always_on>
      <update_rate>100.0</update_rate>
    </sensor>
  </gazebo>
  <gazebo reference="right_hand_range">
    <sensor name="ir_right" type="ray">
      <pose>0.0 0.0 0.0 0.0 0.0 0.0</pose>
      <ray>
        <scan>
          <horizontal>
            <samples>1</samples>
            <resolution>1.0</resolution>
            <min_angle>-0.5</min_angle>
            <max_angle>0.5</max_angle>
          </horizontal>
        </scan>
        <range>
          <min>0.004</min>
          <max>0.4</max>
        </range>
      </ray>
      <plugin name="plugin_3" filename="libgazebo_ros_laser.so">
        <gaussianNoise>0.005</gaussianNoise>
        <alwaysOn>true</alwaysOn>
        <updateRate>100</updateRate>
        <topicName>/sim/laserscan/right_hand_range/state</topicName>
        <frameName>right_hand_range</frameName>
      </plugin>
      <always_on>true</always_on>
      <update_rate>100.0</update_rate>
    </sensor>
  </gazebo>
  <gazebo reference="left_hand_range">
    <sensor name="ir_left" type="ray">
      <pose>0.0 0.0 0.0 0.0 0.0 0.0</pose>
      <ray>
        <scan>
          <horizontal>
            <samples>1</samples>
            <resolution>1.0</resolution>
            <min_angle>-0.5</min_angle>
            <max_angle>0.5</max_angle>
          </horizontal>
        </scan>
        <range>
          <min>0.004</min>
          <max>0.4</max>
        </range>
      </ray>
      <plugin name="plugin_4" filename="libgazebo_ros_laser.so">
        <gaussianNoise>0.005</gaussianNoise>
        <alwaysOn>true</alwaysOn>
        <updateRate>100</updateRate>
        <topicName>/sim/laserscan/left_hand_range/state</topicName>
        <frameName>left_hand_range</frameName>
      </plugin>
      <always_on>true</always_on>
      <update_rate>100.0</update_rate>
    </sensor>
  </gazebo>
</robot>
